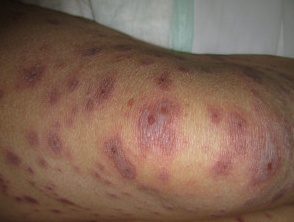SJS-TEN: (0, 2, 183, 190), (76, 71, 220, 201), (199, 72, 294, 201)
